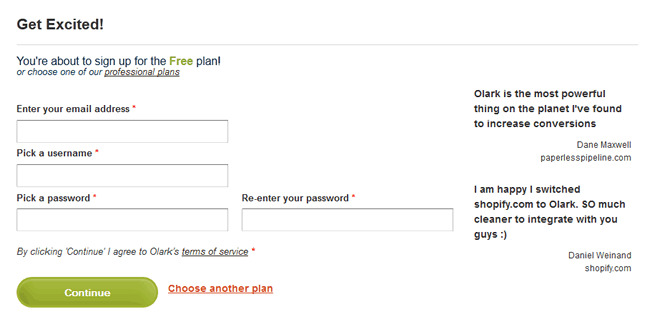_form_: (11, 1, 427, 332), (236, 182, 462, 256)
button: (17, 277, 158, 308)
field: (238, 206, 455, 233), (15, 206, 229, 232), (16, 118, 229, 144), (16, 163, 229, 187)
field_with_label: (14, 102, 231, 146), (237, 192, 457, 234), (12, 192, 230, 233), (14, 149, 230, 189)
